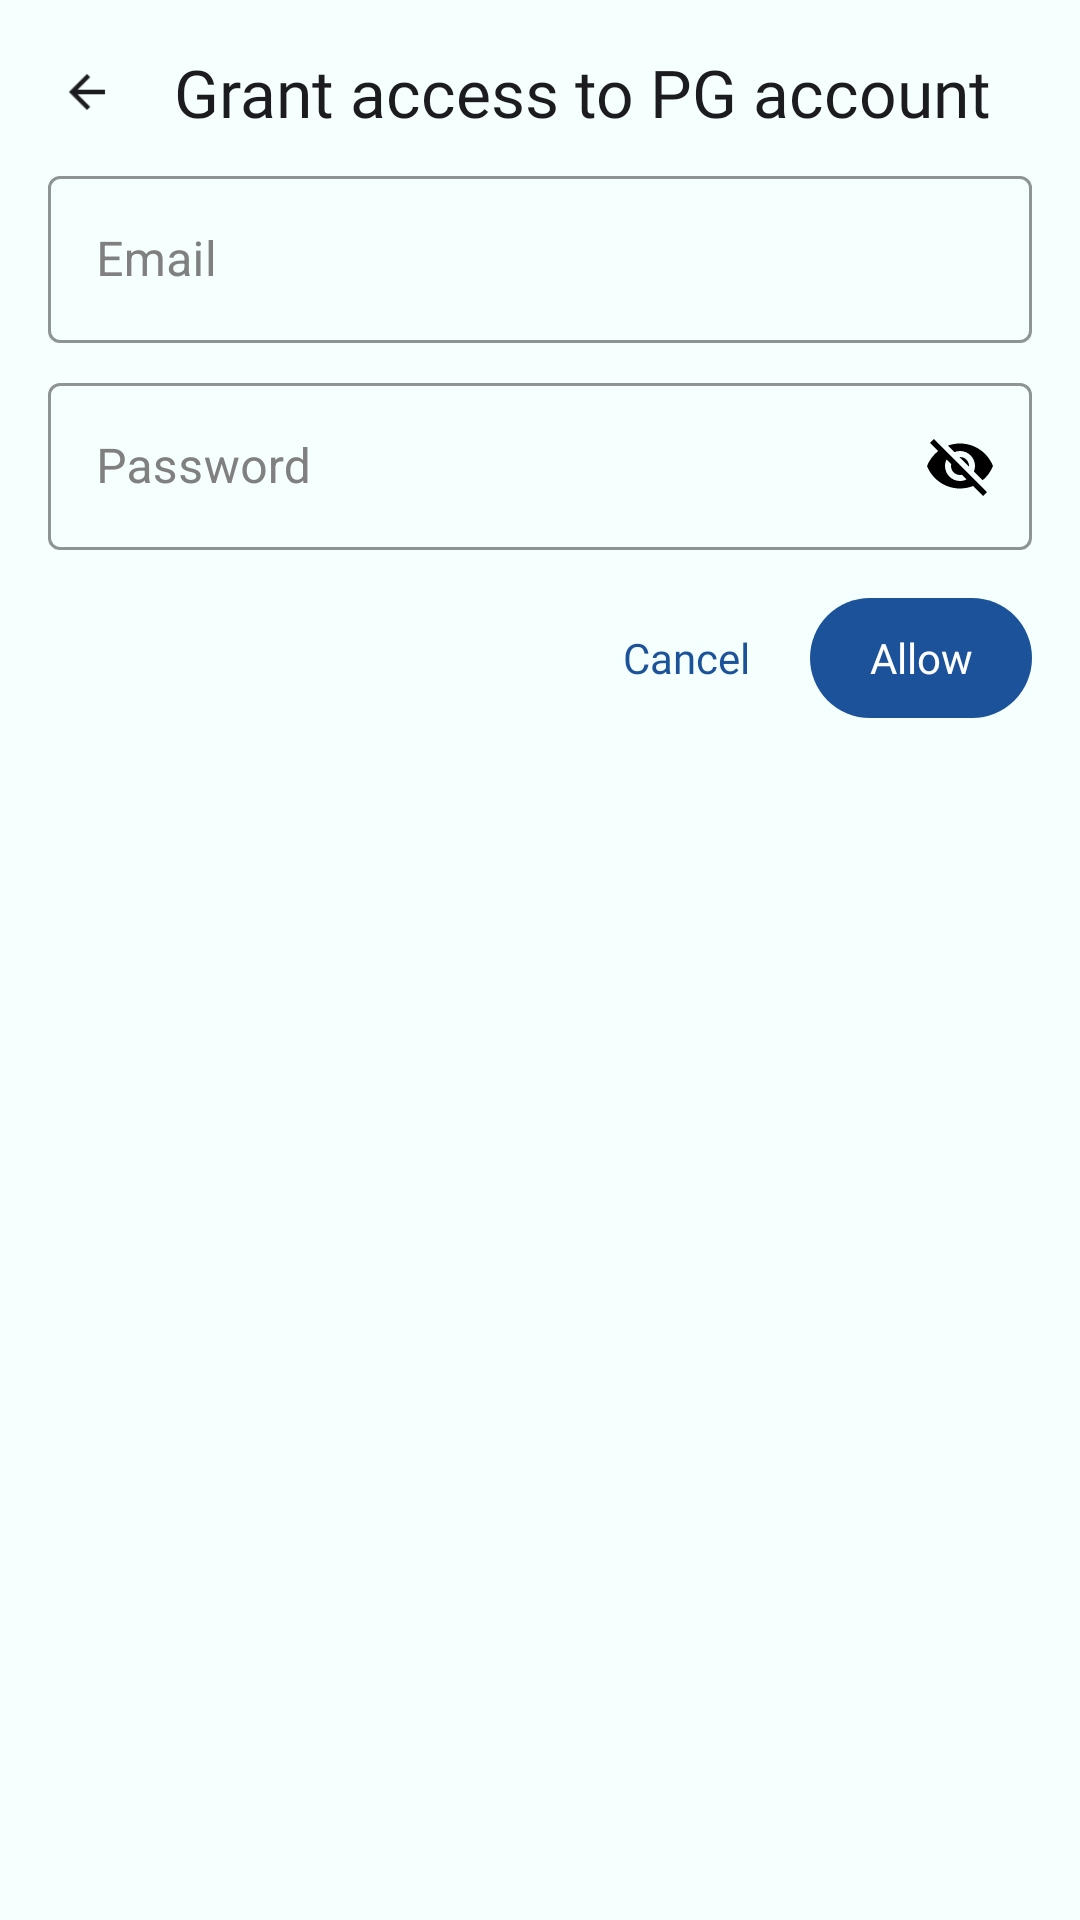

Screen size 1080w x 1920h. Icon name, then its box in pixels as bbox=(x1, y1, x2, y2):
back: bbox=(69, 74, 105, 110)
